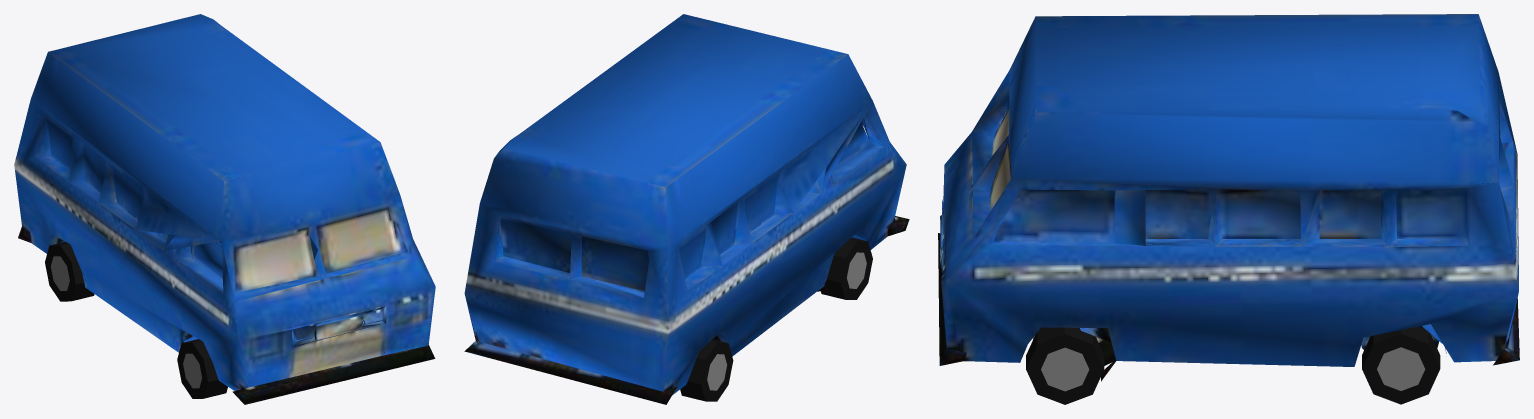
The model's file is danfo-blue-white-far.glb.
The picture shows the model from 3 angles, left to right: view 1: azimuth 30°, elevation 25°; view 2: azimuth 150°, elevation 25°; view 3: azimuth 270°, elevation 25°; orthographic projection. The views are drawn at different scales.
Visible parts, largest first — view 1: danfo-far; view 2: danfo-far; view 3: danfo-far.
Part boxes in pixels (x1,y1,x2,y2): danfo-far: (14,14,435,404); danfo-far: (464,14,909,404); danfo-far: (938,14,1519,404).
Bounding box in the file's own units: 2.42 × 2.64 × 4.92.
1 material, 1 textured.
